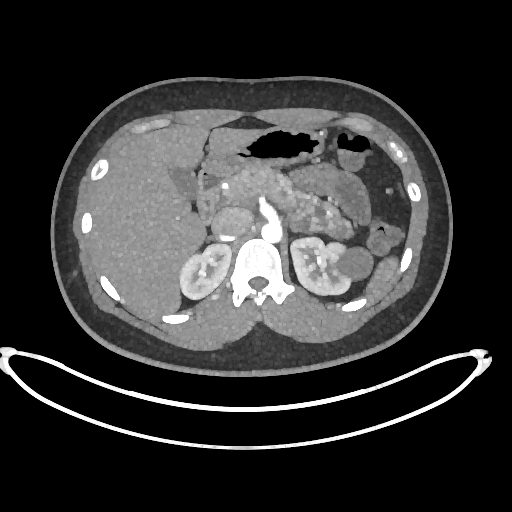Lesion: (335, 244, 374, 283)
